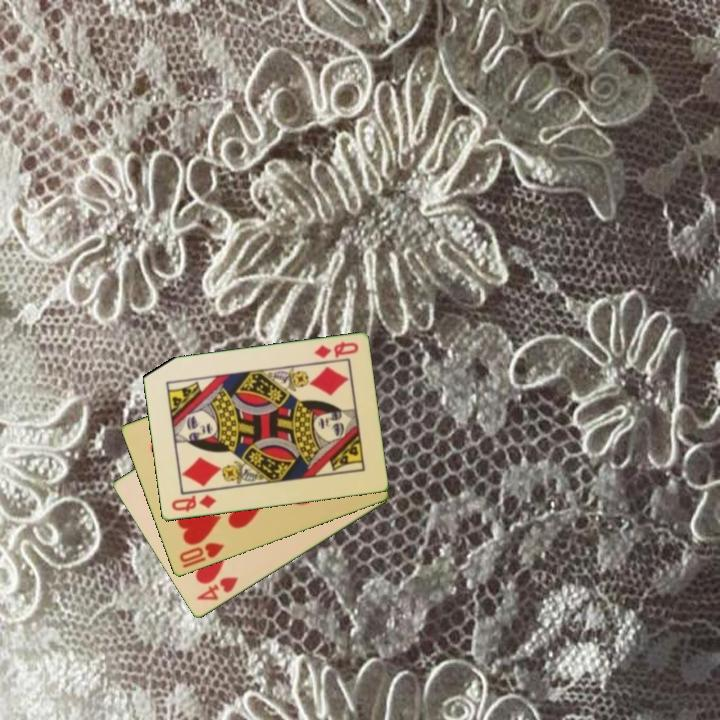10h: (175, 539, 227, 571)
4h: (193, 573, 241, 604)
Qd: (311, 338, 361, 362), (167, 492, 219, 515)
